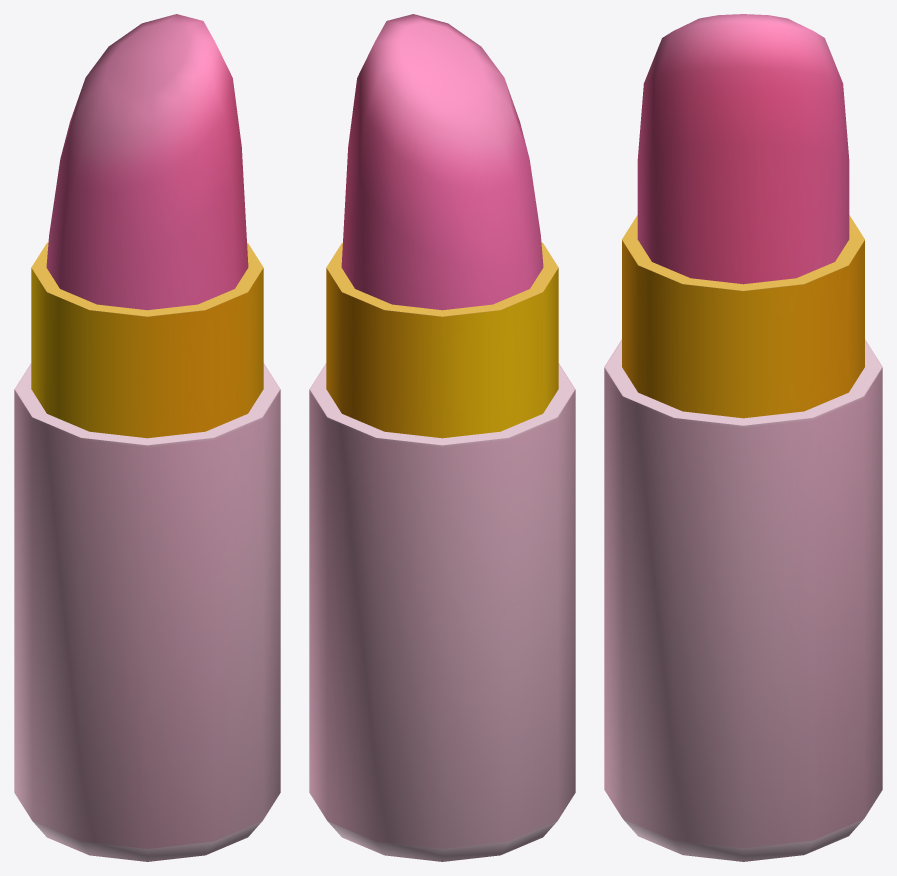
Rendered from lipstick.FBX.
3 views of the same model, side by side, from view 1: azimuth 30°, elevation 25°; view 2: azimuth 150°, elevation 25°; view 3: azimuth 270°, elevation 25° (orthographic). The views are drawn at different scales.
Visible parts, largest first — view 1: lipstick; view 2: lipstick; view 3: lipstick.
Part boxes in pixels (left/top/right/bottom): lipstick: left=14, top=14, right=280, bottom=861; lipstick: left=309, top=14, right=575, bottom=861; lipstick: left=604, top=14, right=882, bottom=861.
Bounding box in the file's own units: 11.82 × 38.15 × 11.82.
